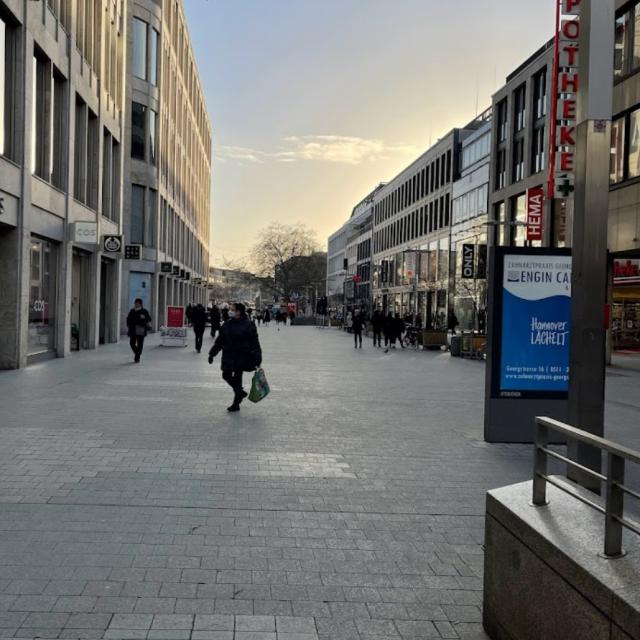Werbetafel frei: (489, 247, 571, 397)
